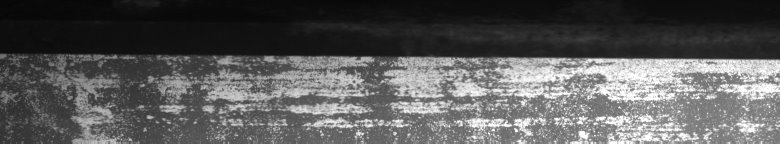kb: (4, 48, 776, 136)
